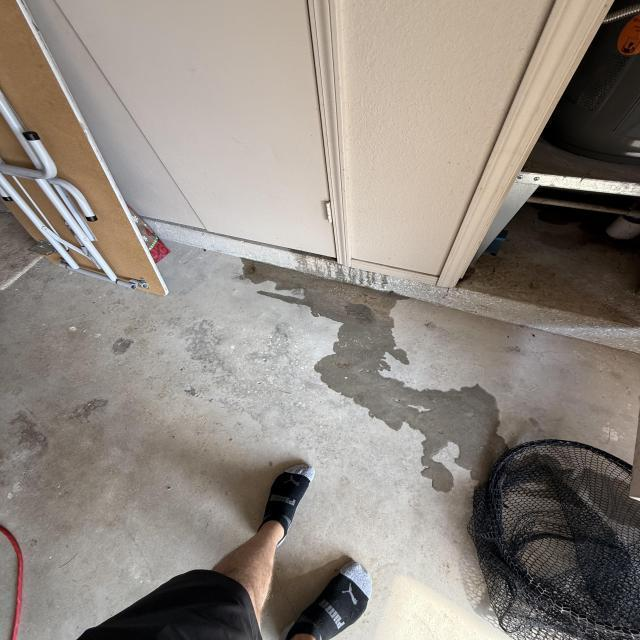water accumulation: (240, 244, 537, 494)
